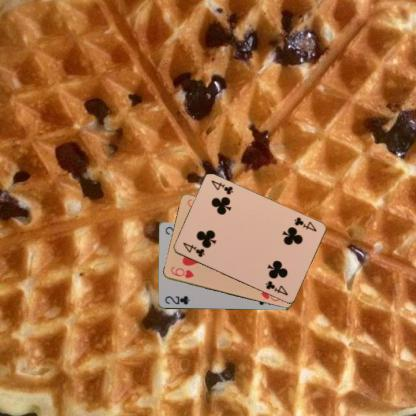2c: (162, 294, 191, 306)
4c: (291, 214, 318, 233), (180, 240, 206, 258)
6h: (168, 264, 195, 280)
